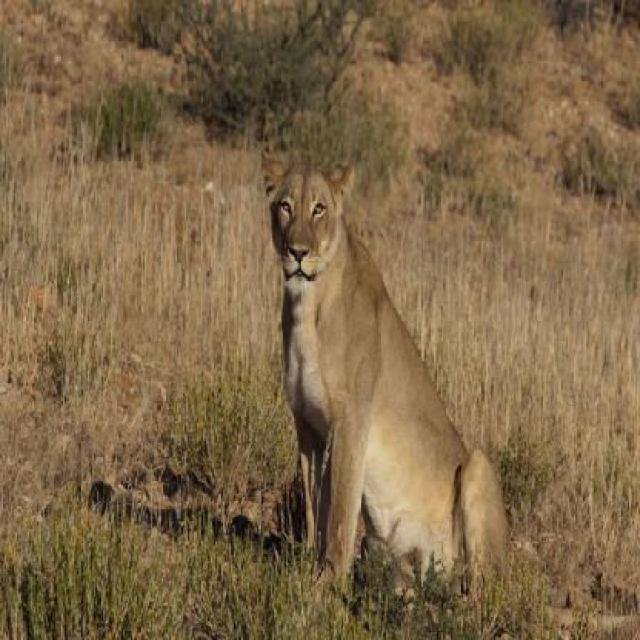Lion: (232, 134, 517, 638)
